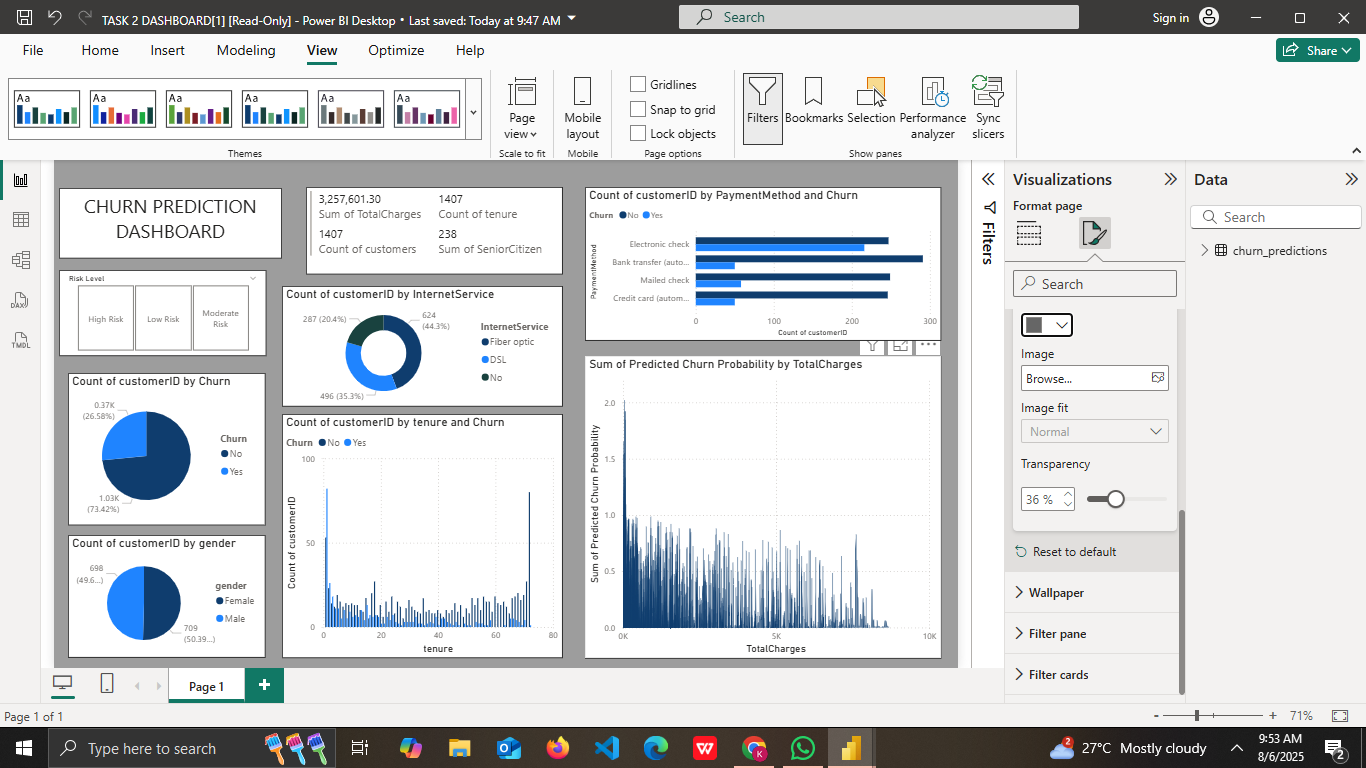

Layout of this report page (visuals, bound fields, positions):
{"tool":"powerbi","page":{"name":"Page 1","canvas":[1280,720],"ordinal":0},"visuals":[{"type":"slicer","fields":{"Values":["churn_predictions.Risk Level"]},"box":[6.8,155.6,293.7,121.6],"z":0},{"type":"ribbonChart","fields":{"Category":["churn_predictions.TotalCharges"],"Y":["churn_predictions.Predicted Churn Probability"]},"box":[752.8,277.2,504.8,428.9],"z":1000},{"type":"pieChart","fields":{"Category":["churn_predictions.Churn"],"Y":["churn_predictions.customerID"]},"box":[20.4,302.5,280.1,215.9],"z":2000},{"type":"clusteredColumnChart","fields":{"Category":["churn_predictions.tenure"],"Y":["churn_predictions.customerID"],"Series":["churn_predictions.Churn"]},"box":[322.9,359.9,397.8,346.3],"z":3000},{"type":"clusteredBarChart","fields":{"Series":["churn_predictions.Churn"],"Category":["churn_predictions.PaymentMethod"],"Y":["churn_predictions.customerID"]},"box":[752.8,38.9,504.8,217.9],"z":4000},{"type":"multiRowCard","fields":{"Values":["churn_predictions.TotalCharges","churn_predictions.tenure","churn_predictions.customerID","churn_predictions.SeniorCitizen"]},"box":[357,38.9,363.8,124.5],"z":5000},{"type":"pieChart","fields":{"Category":["churn_predictions.gender"],"Y":["churn_predictions.customerID"]},"box":[20.4,532,280.1,174.1],"z":6000},{"type":"donutChart","fields":{"Category":["churn_predictions.InternetService"],"Y":["churn_predictions.customerID"]},"box":[322.9,179,397.8,171.2],"z":7000},{"type":"textbox","box":[7.1,39,315.7,100.2],"z":8000}]}

Visuals, with their boxes on the page's 1280x720 design canvas (x1, y1, x2, y2). These are canvas units, not pixel positions in the 1366x768 screenshot, which may show the page scaled, cropped or inside an application window:
slicer - churn_predictions.Risk Level: 7, 156, 300, 277
ribbonChart - churn_predictions.TotalCharges x churn_predictions.Predicted Churn Probability: 753, 277, 1258, 706
pieChart - churn_predictions.Churn x churn_predictions.customerID: 20, 302, 300, 518
clusteredColumnChart - churn_predictions.tenure x churn_predictions.customerID: 323, 360, 721, 706
clusteredBarChart - churn_predictions.Churn x churn_predictions.PaymentMethod: 753, 39, 1258, 257
multiRowCard - churn_predictions.TotalCharges x churn_predictions.tenure: 357, 39, 721, 163
pieChart - churn_predictions.gender x churn_predictions.customerID: 20, 532, 300, 706
donutChart - churn_predictions.InternetService x churn_predictions.customerID: 323, 179, 721, 350
textbox: 7, 39, 323, 139
